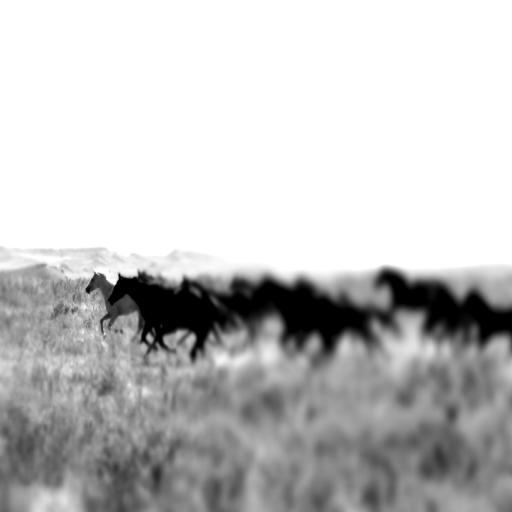horse: (83, 266, 398, 362)
